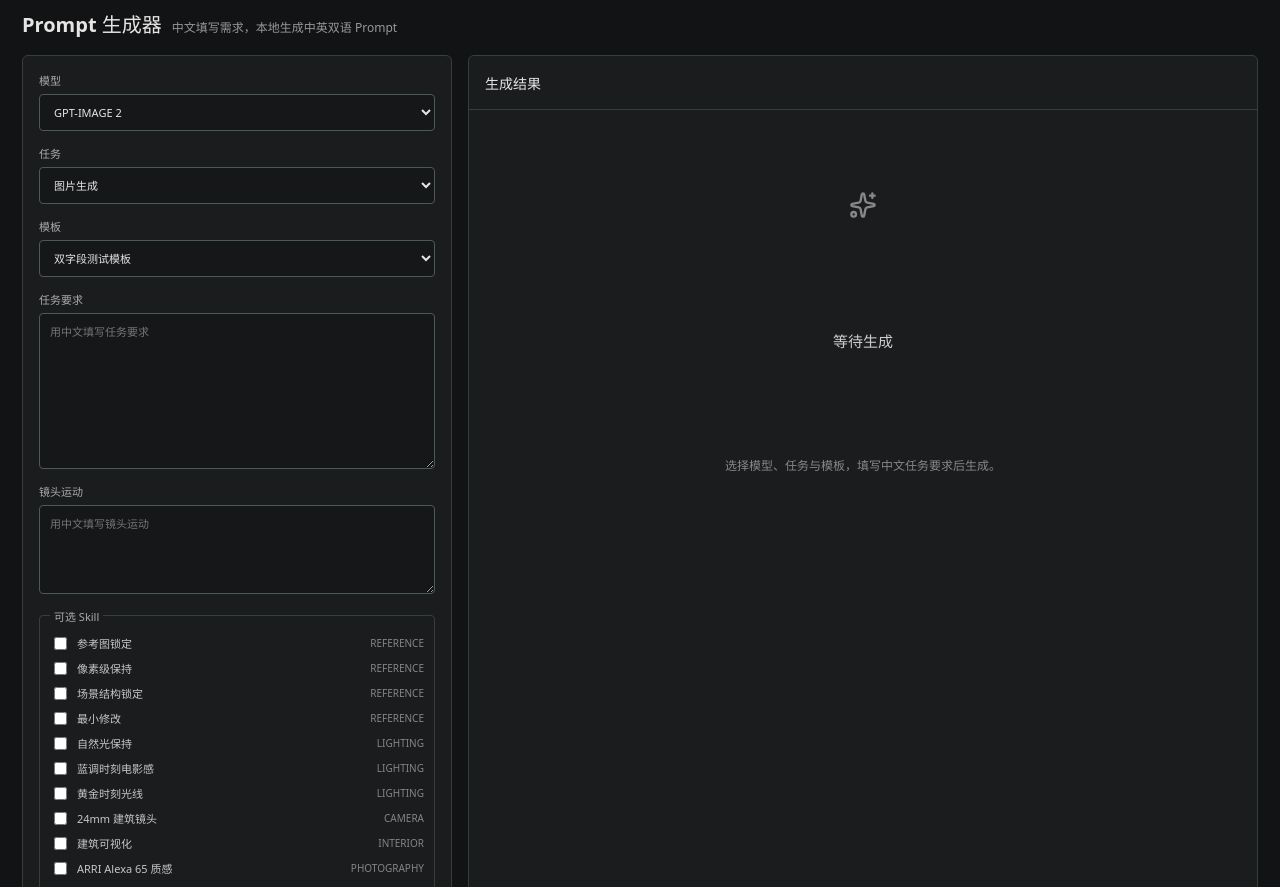
Test: GeneratorPage › renders a custom two-field template schema and resolves both placeholders
Later steps or results of the test are not shown.
Check: the dropdown labelled "模板" is shown, box [39, 240, 435, 277]
Type "把白天改成蓝调夜景" into the text box labelled "任务要求". click: (237, 391)
box: [39, 313, 435, 469]
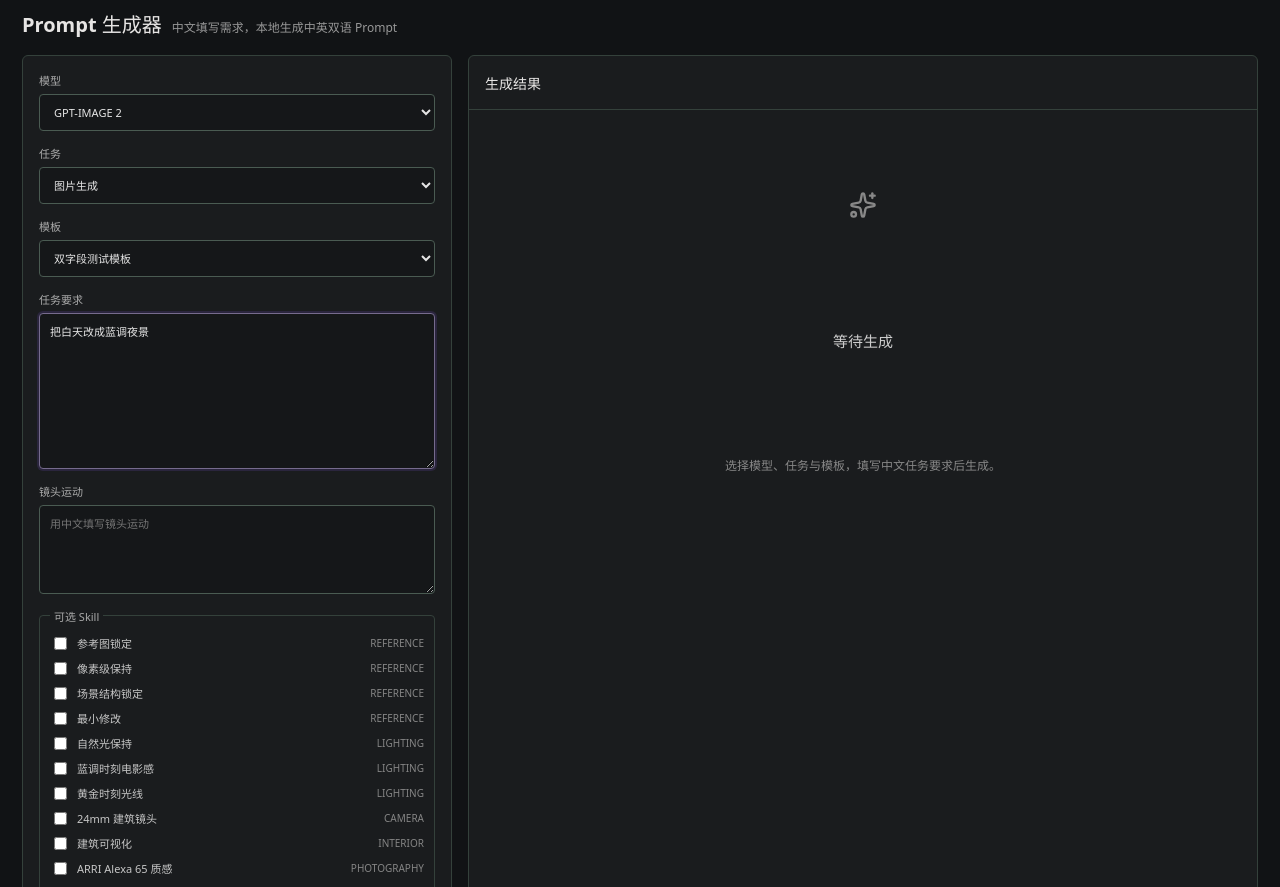
Type "缓慢推进" into the text box labelled "镜头运动". click: (237, 550)
box: [39, 505, 435, 594]
(page scrolled)
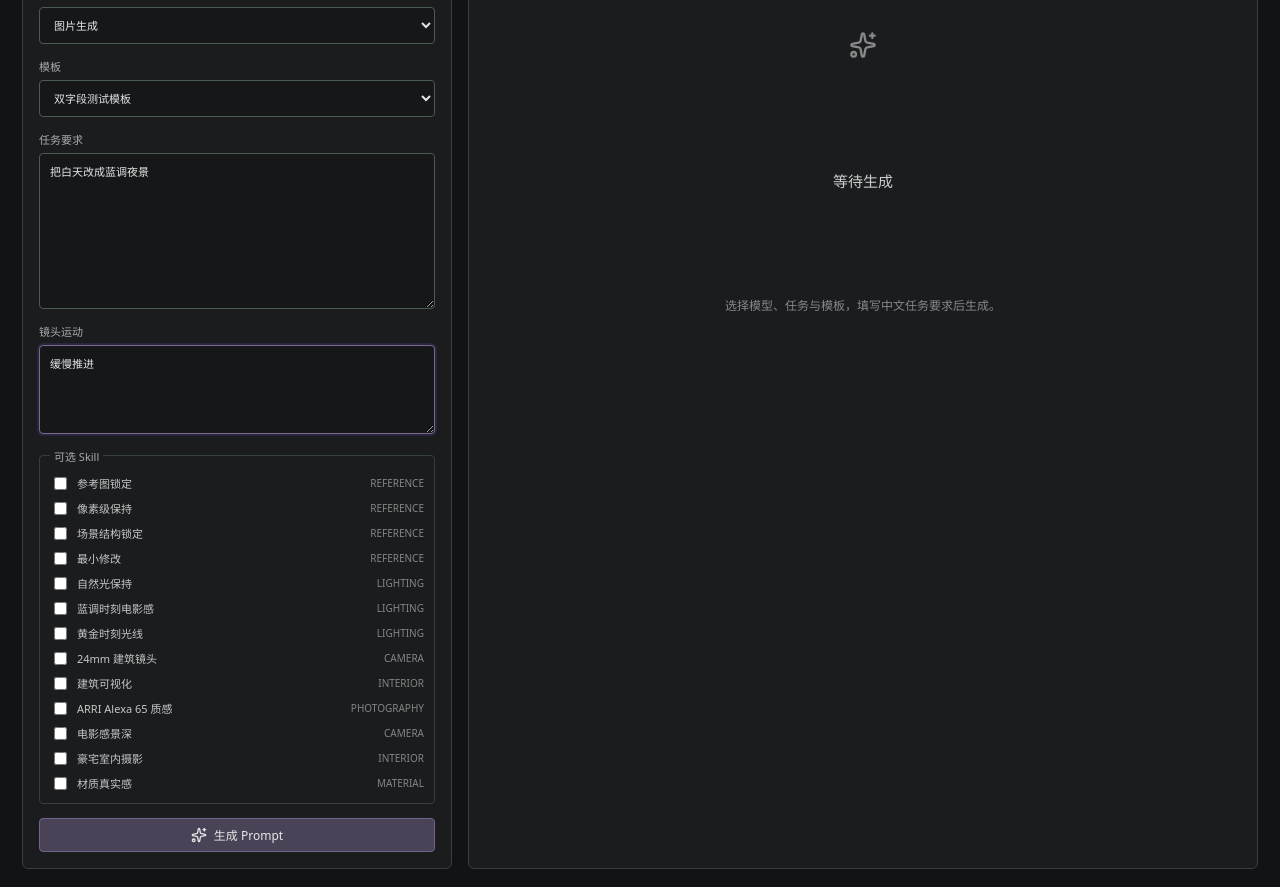
Check: the button "生成 Prompt" is enabled, box [39, 818, 435, 852]
